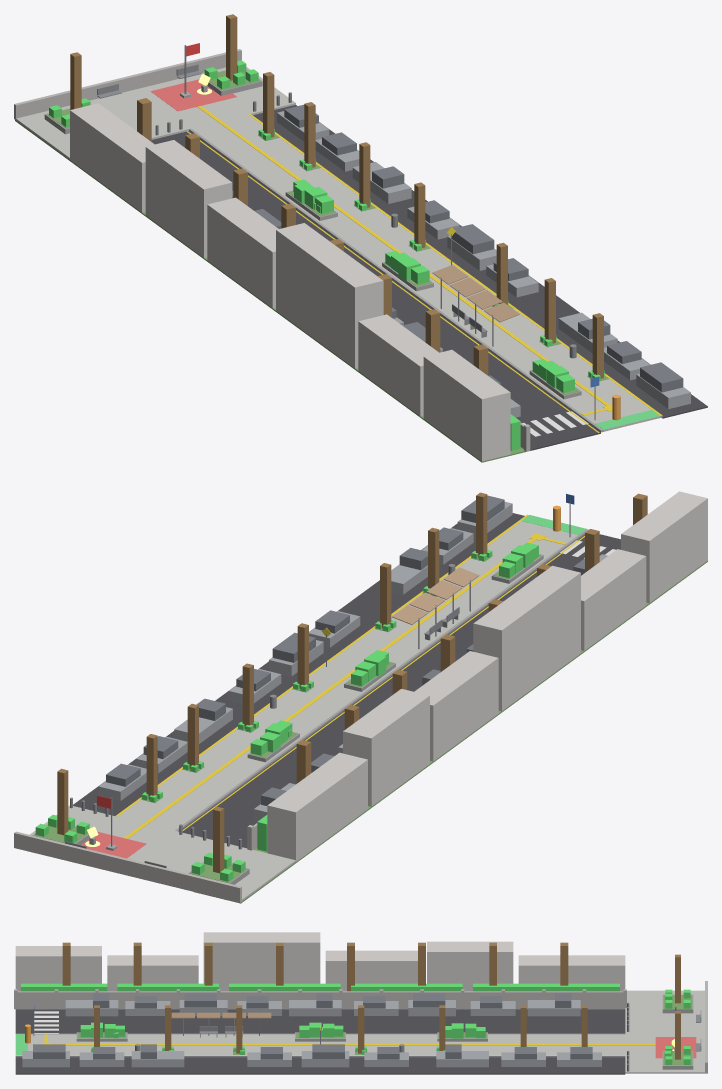
File: CamellonRestaurado.fbx
The picture shows the model from 3 angles, top to bottom: view 1: azimuth 30°, elevation 25°; view 2: azimuth 150°, elevation 25°; view 3: azimuth 270°, elevation 25°; orthographic projection. The views are drawn at different scales.
Visible parts, largest first — view 1: RES_Banqueta, RES_Edificio_2, RES_Calle, RES_Edificio_0, RES_Edificio_4, RES_Plaza, RES_Edificio_5, RES_Carril_Estacionamiento, RES_Edificio_3, RES_Edificio_1, RES_Muro_Fondo_Plaza, RES_Guarnicion_Izq (+19 smaller); view 2: RES_Banqueta, RES_Edificio_2, RES_Calle, RES_Edificio_5, RES_Edificio_4, RES_Edificio_0, RES_Carril_Estacionamiento, RES_Plaza, RES_Edificio_3, RES_Edificio_1, RES_Muro_Fondo_Plaza, RES_Guarnicion_Izq (+18 smaller); view 3: RES_Calle, RES_Banqueta, RES_Carril_Estacionamiento, RES_Barda, RES_Edificio_2, RES_Plaza, RES_Edificio_4, RES_Edificio_0, RES_Edificio_5, RES_Edificio_3, RES_Edificio_1, RES_PH_Seto_4 (+61 smaller).
Boxes of the visible parts, x1,y1,x2,y2 form: RES_Banqueta: [191, 114, 660, 431]; RES_Edificio_2: [276, 223, 383, 368]; RES_Calle: [151, 131, 600, 450]; RES_Edificio_0: [423, 349, 510, 461]; RES_Edificio_4: [145, 140, 232, 257]; RES_Plaza: [15, 67, 295, 159]; RES_Edificio_5: [70, 103, 154, 212]; RES_Carril_Estacionamiento: [253, 105, 707, 418]; RES_Edificio_3: [207, 197, 278, 308]; RES_Edificio_1: [358, 314, 438, 416]; RES_Muro_Fondo_Plaza: [14, 49, 241, 119]; RES_Guarnicion_Izq: [189, 128, 603, 432]; RES_Banqueta: [118, 521, 583, 830]; RES_Edificio_2: [473, 565, 580, 711]; RES_Calle: [182, 534, 620, 848]; RES_Edificio_5: [267, 752, 367, 861]; RES_Edificio_4: [343, 689, 429, 806]; RES_Edificio_0: [621, 491, 707, 603]; RES_Carril_Estacionamiento: [73, 513, 524, 815]; RES_Plaza: [29, 805, 295, 901]; RES_Edificio_3: [414, 651, 498, 761]; RES_Edificio_1: [581, 549, 646, 650]; RES_Muro_Fondo_Plaza: [14, 831, 241, 902]; RES_Guarnicion_Izq: [175, 529, 588, 831]; RES_Calle: [15, 1009, 625, 1033]; RES_Banqueta: [28, 1034, 625, 1054]; RES_Carril_Estacionamiento: [15, 1057, 625, 1074]; RES_Barda: [17, 991, 623, 1008]; RES_Edificio_2: [203, 932, 320, 991]; RES_Plaza: [625, 990, 706, 1073]; RES_Edificio_4: [427, 941, 513, 991]; RES_Edificio_0: [15, 946, 101, 991]; RES_Edificio_5: [518, 955, 625, 991]; RES_Edificio_3: [325, 950, 417, 991]; RES_Edificio_1: [107, 955, 198, 991]; RES_PH_Seto_4: [473, 983, 619, 991].
Bounding box in the file's own units: 1900 × 664 × 6832.
